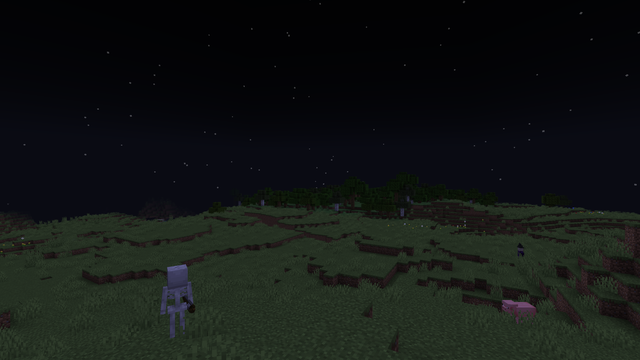cochons: (510, 298, 533, 326)
sorcieres: (517, 246, 522, 261)
squelettes: (161, 263, 192, 343)
